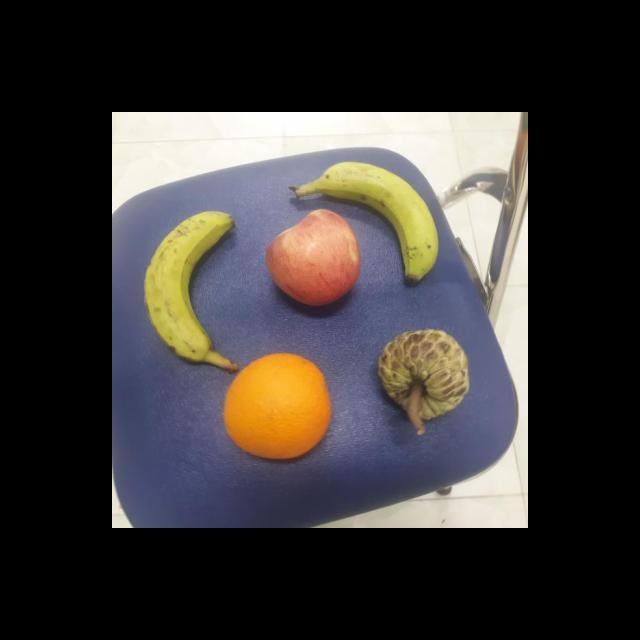Sakya fruit: (373, 328, 477, 432)
apple: (266, 207, 364, 313)
banana: (322, 152, 444, 286), (141, 205, 238, 372)
orange: (220, 352, 346, 462)
